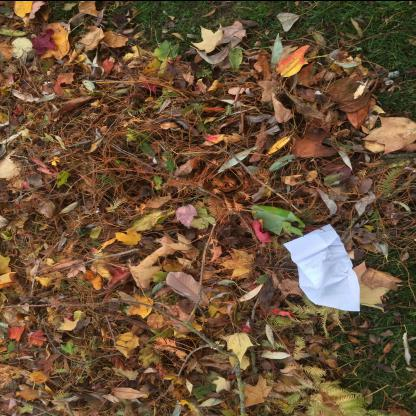kagit: (284, 225, 361, 312)
